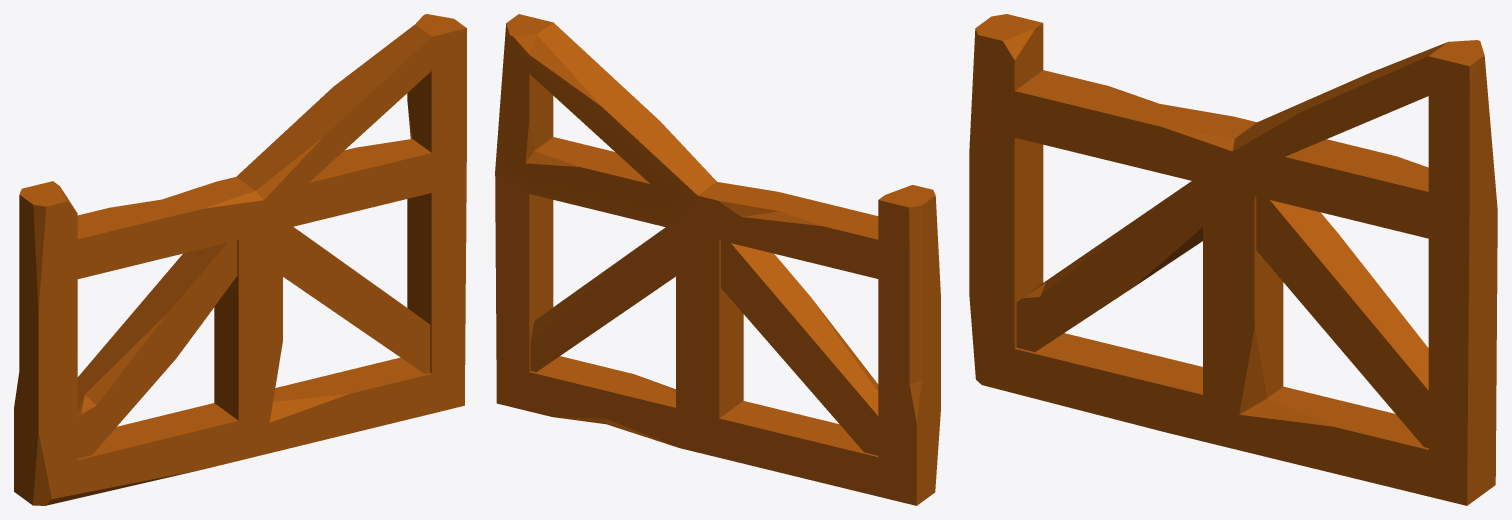
Rendered from Gate_Door_Right.001_3.fbx.
3 views of the same model, side by side, from view 1: azimuth 30°, elevation 25°; view 2: azimuth 150°, elevation 25°; view 3: azimuth 330°, elevation 25° (orthographic). The views are drawn at different scales.
Visible parts, largest first — view 1: Gate_Door_Right.001_3; view 2: Gate_Door_Right.001_3; view 3: Gate_Door_Right.001_3.
Boxes of the visible parts, <box> form: Gate_Door_Right.001_3: <box>14,14,466,505</box>; Gate_Door_Right.001_3: <box>495,14,940,505</box>; Gate_Door_Right.001_3: <box>969,14,1497,505</box>.
Bounding box in the file's own units: 41.76 × 35.11 × 4.14.
